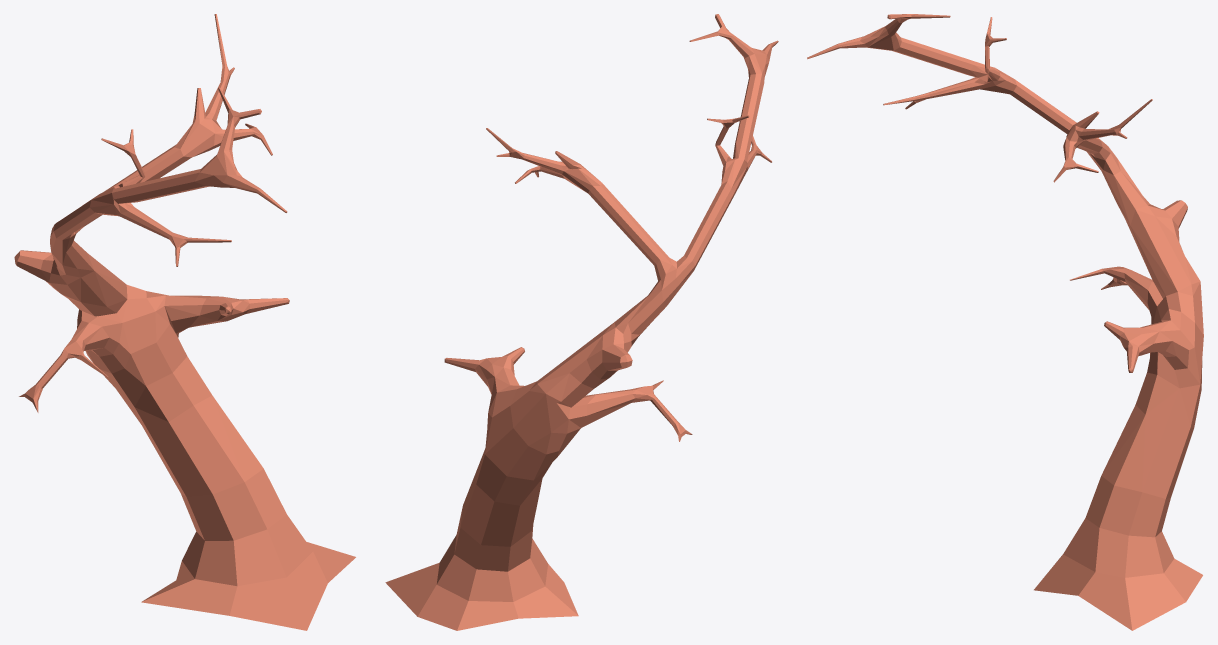
The model's file is lowPolyTreeDead.fbx.
The picture shows the model from 3 angles, left to right: view 1: azimuth 30°, elevation 25°; view 2: azimuth 150°, elevation 25°; view 3: azimuth 270°, elevation 25°; orthographic projection. The views are drawn at different scales.
Visible parts, largest first — view 1: Cube; view 2: Cube; view 3: Cube.
Part boxes in pixels (x1,y1,x2,y2): Cube: (14, 14, 355, 630); Cube: (385, 14, 778, 630); Cube: (807, 14, 1203, 630).
Size of the model in its own units: 187 by 324 by 224.
